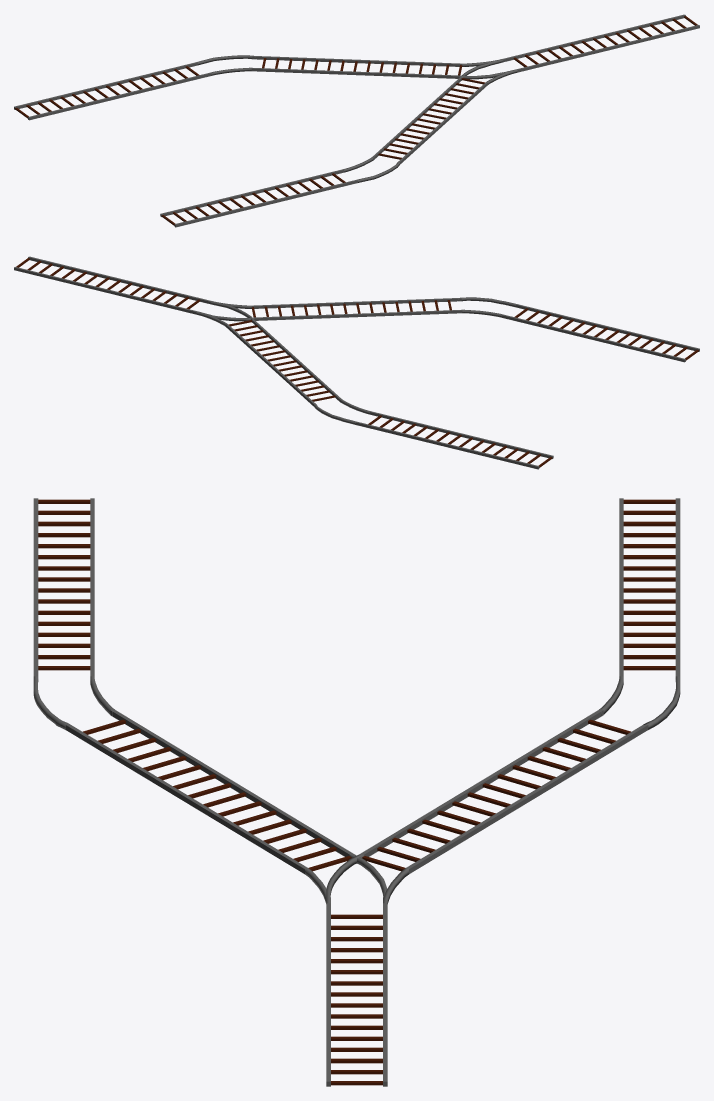
File: Rail_Junction_1.fbx
The picture shows the model from 3 angles, top to bottom: view 1: azimuth 30°, elevation 25°; view 2: azimuth 150°, elevation 25°; view 3: azimuth 270°, elevation 25°; orthographic projection. The views are drawn at different scales.
Parts seen in each view (by area): view 1: RailBar 1.003; view 2: RailBar 1.003; view 3: RailBar 1.003.
Boxes of the visible parts, bbox=[...] form: RailBar 1.003: bbox=[14, 14, 699, 227]; RailBar 1.003: bbox=[14, 256, 699, 469]; RailBar 1.003: bbox=[33, 498, 680, 1086].
Size of the model in its own units: 10492 by 57.22 by 4918.
